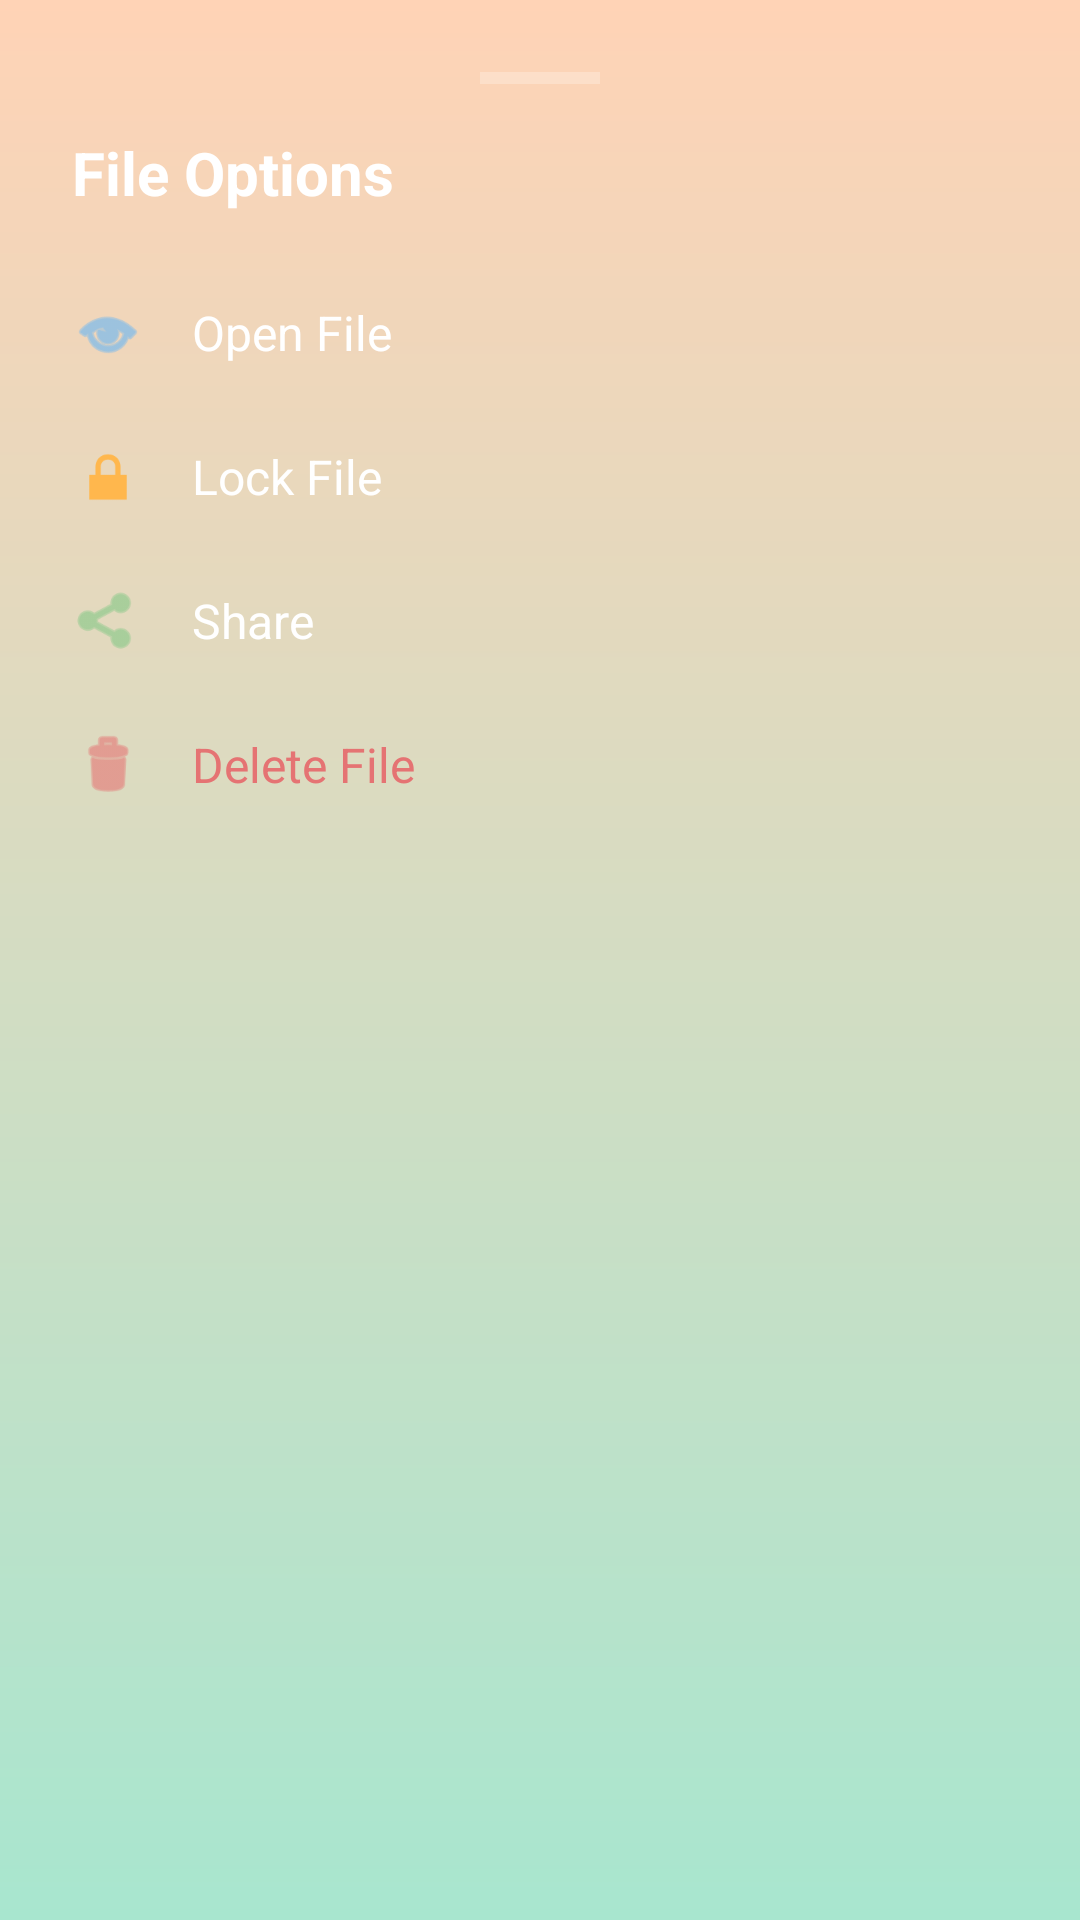

Named icons in this screenshot (1080px×1920px) and their bounding boxes, detection(x1, y1, x2, y2):
view: detection(79, 317, 137, 353)
